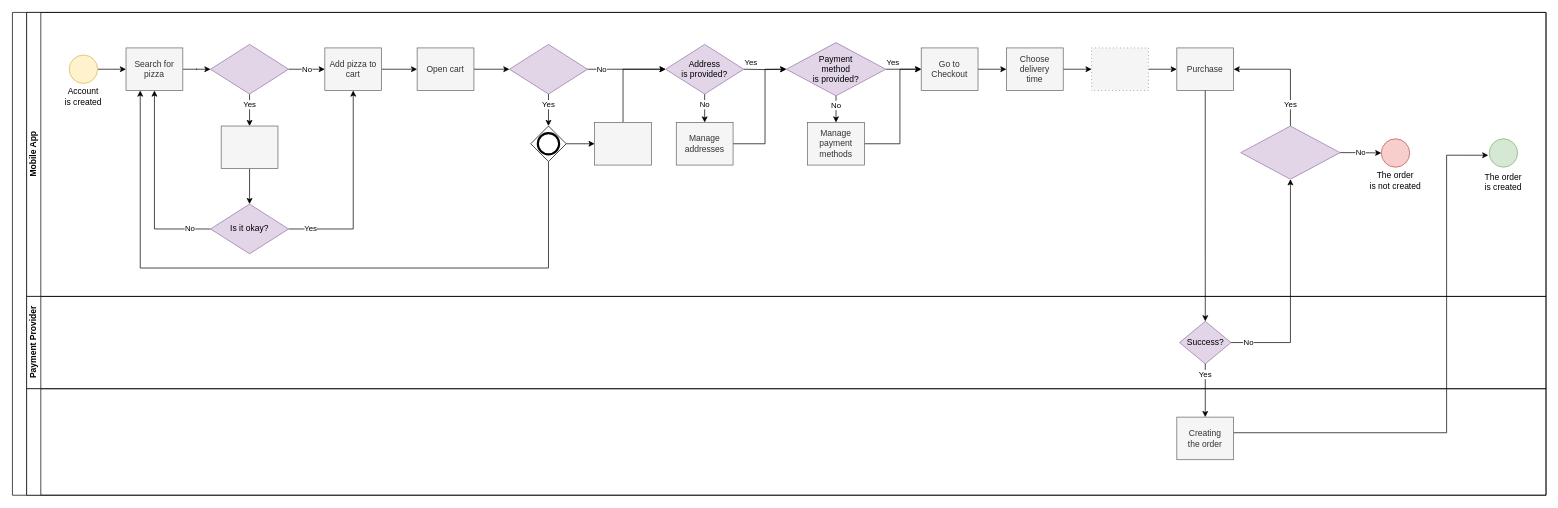
Some shapes in this 1558 by 508 pixel diagram are drawn without their labels. Here are the shapes that lost their labels. From the top down, the box of each, then its label:
(210, 44, 289, 94): Need more details?
(509, 44, 588, 94): Add / Delete smthn?
(1091, 47, 1148, 91): Add comments
(220, 125, 278, 169): See pizza details
(594, 122, 651, 165): Edit cart
(1240, 125, 1340, 179): May the issue be resolved?
(26, 388, 1546, 495): Pizza Service
